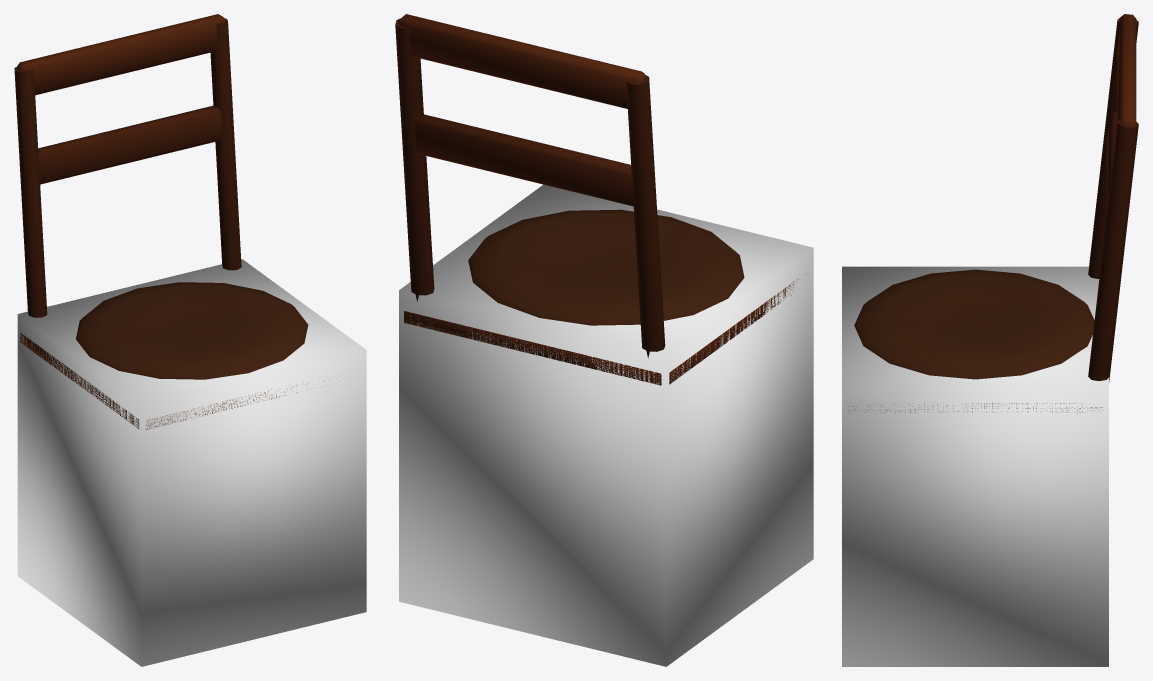
The model's file is silla_vieja.glb.
3 renders of one model, left to right at view 1: azimuth 30°, elevation 25°; view 2: azimuth 150°, elevation 25°; view 3: azimuth 270°, elevation 25°, orthographic. The views are drawn at different scales.
Visible parts, largest first — view 1: asiento-colcaja, silla; view 2: asiento-colcaja, silla; view 3: asiento-colcaja, silla.
Part boxes in pixels (x1=…): asiento-colcaja: x1=17, y1=259, x2=366, y2=666; silla: x1=14, y1=14, x2=329, y2=429; asiento-colcaja: x1=399, y1=184, x2=813, y2=666; silla: x1=395, y1=14, x2=798, y2=385; asiento-colcaja: x1=842, y1=266, x2=1108, y2=666; silla: x1=848, y1=14, x2=1138, y2=412.
Size of the model in its own units: 0.44 by 0.9409 by 0.4669.
